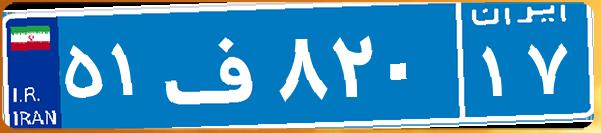0: (385, 28, 445, 110)
1: (475, 38, 525, 113), (110, 28, 158, 105)
2: (330, 28, 385, 110)
5: (57, 26, 110, 107)
7: (525, 38, 570, 115)
8: (273, 28, 330, 110)
ف: (158, 15, 273, 115)
